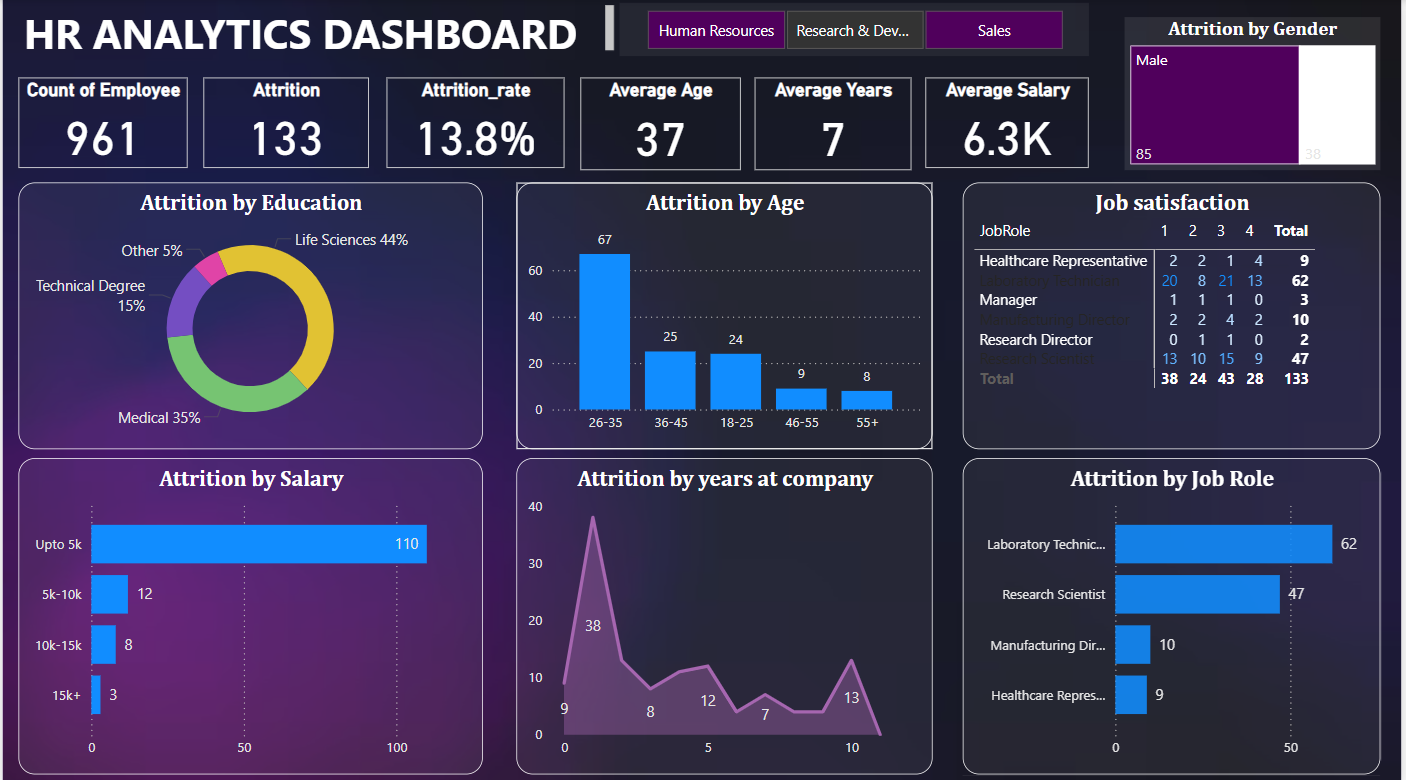

What the dashboard file says about the page in this screenshot:
{"tool":"powerbi","page":{"name":"Page 1","canvas":[1280,720],"ordinal":0},"visuals":[{"type":"card","title":"Count of Employee","fields":{"Values":["Count(HR_Analytics.EmpID)"]},"box":[14.6,71.6,154.5,83],"z":0},{"type":"card","title":"Attrition_rate","fields":{"Values":["HR_Analytics.attrition_rate"]},"box":[351.3,71.6,162.7,83],"z":1000},{"type":"card","title":"Attrition","fields":{"Values":["Sum(HR_Analytics.Attrition_cnt)"]},"box":[183.8,71.6,151.3,83],"z":2000},{"type":"card","title":"Average Age","fields":{"Values":["Avg(HR_Analytics.Age)"]},"box":[528.6,71.6,146.4,84.6],"z":3000},{"type":"card","title":"Average Salary","fields":{"Values":["Avg(HR_Analytics.MonthlyIncome)"]},"box":[844.2,71.6,149.6,83],"z":4000},{"type":"card","title":"Average Years","fields":{"Values":["Avg(HR_Analytics.YearsAtCompany)"]},"box":[688,71.6,143.1,84.6],"z":5000},{"type":"donutChart","title":"Attrition by Education","fields":{"Category":["HR_Analytics.EducationField"],"Y":["Sum(HR_Analytics.Attrition_cnt)"]},"box":[14.6,167.5,424.5,244],"z":6000},{"type":"columnChart","title":"Attrition by Age","fields":{"Category":["HR_Analytics.AgeGroup"],"Y":["Sum(HR_Analytics.Attrition_cnt)"]},"box":[470.1,167.5,380.6,244],"z":7000},{"type":"pivotTable","title":"Job satisfaction","fields":{"Rows":["HR_Analytics.JobRole"],"Values":["Sum(HR_Analytics.Attrition_cnt)"],"Columns":["HR_Analytics.JobSatisfaction"]},"box":[878.3,167.5,382.2,244],"z":8000},{"type":"clusteredBarChart","title":"Attrition by Salary","fields":{"Category":["HR_Analytics.SalarySlab"],"Y":["Sum(HR_Analytics.Attrition_cnt)"]},"box":[14.6,419.6,424.5,289.5],"z":9000},{"type":"clusteredBarChart","title":"Attrition by Job Role","fields":{"Category":["HR_Analytics.JobRole"],"Y":["Sum(HR_Analytics.Attrition_cnt)"]},"box":[878.3,419.6,382.2,289.5],"z":10000},{"type":"stackedAreaChart","title":"Attrition by years at company","fields":{"Category":["HR_Analytics.YearsAtCompany"],"Y":["Sum(HR_Analytics.Attrition_cnt)"]},"box":[470.1,419.6,380.6,289.5],"z":11000},{"type":"treemap","title":"Attrition by Gender","fields":{"Group":["HR_Analytics.Gender"],"Values":["Sum(HR_Analytics.Attrition_cnt)"]},"box":[1026.3,16.3,234.2,139.9],"z":12000},{"type":"slicer","fields":{"Values":["HR_Analytics.Department"]},"box":[564.4,3.3,429.4,48.8],"z":13000},{"type":"textbox","box":[14.6,0,549.8,55.3],"z":14000}]}

Visuals, with their boxes in screenshot pixels (x1, y1, x2, y2), scaled from the page's 1280x720 canvas onto the 1406x780 screenshot:
"Count of Employee" card: bbox(16, 78, 186, 167)
"Attrition_rate" card: bbox(386, 78, 565, 167)
"Attrition" card: bbox(202, 78, 368, 167)
"Average Age" card: bbox(581, 78, 741, 169)
"Average Salary" card: bbox(927, 78, 1092, 167)
"Average Years" card: bbox(756, 78, 913, 169)
"Attrition by Education" donutChart: bbox(16, 181, 482, 446)
"Attrition by Age" columnChart: bbox(516, 181, 934, 446)
"Job satisfaction" pivotTable: bbox(965, 181, 1385, 446)
"Attrition by Salary" clusteredBarChart: bbox(16, 455, 482, 768)
"Attrition by Job Role" clusteredBarChart: bbox(965, 455, 1385, 768)
"Attrition by years at company" stackedAreaChart: bbox(516, 455, 934, 768)
"Attrition by Gender" treemap: bbox(1127, 18, 1385, 169)
slicer - HR_Analytics.Department: bbox(620, 4, 1092, 56)
textbox: bbox(16, 0, 620, 60)
